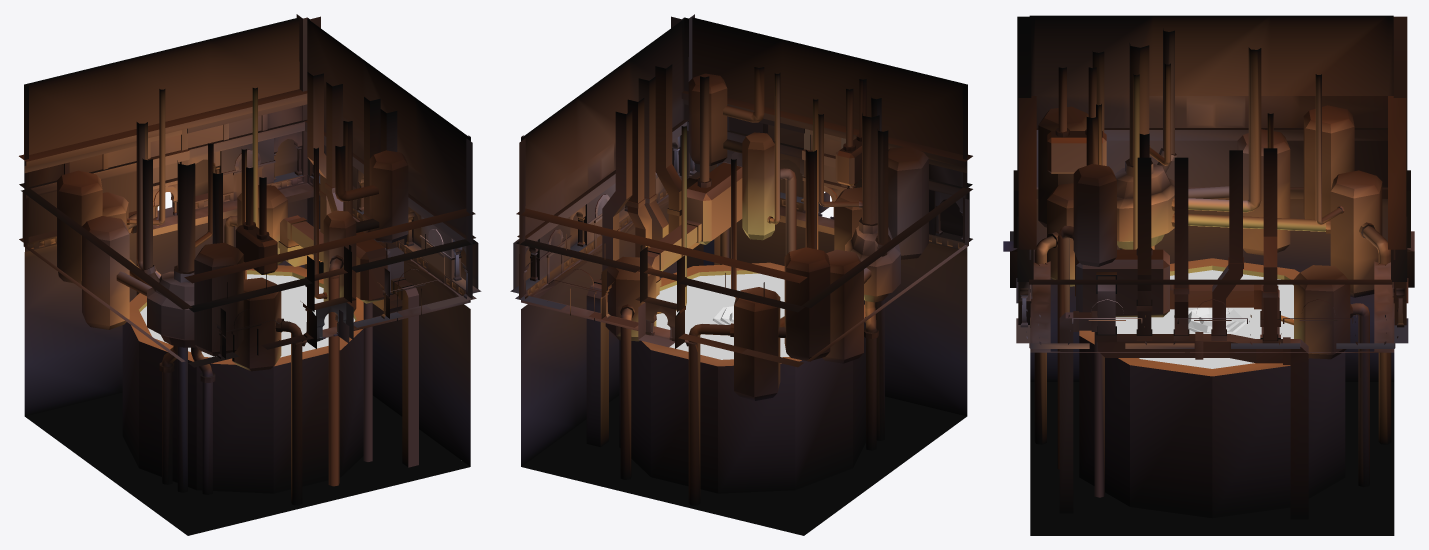
File: 03Lava.gltf
3 renders of one model, left to right at view 1: azimuth 30°, elevation 25°; view 2: azimuth 150°, elevation 25°; view 3: azimuth 270°, elevation 25°, orthographic. The views are drawn at different scales.
Visible parts, largest first — view 1: stg031_o32_Mesh_0074, stg031_o32_Mesh_0062, stg031_o32_Mesh_0008, stg031_o32_Mesh_0001, stg031_o32_Mesh_0000, stg031_o32_Mesh_0052, stg031_o32_Mesh_0056, stg031_o32_Mesh_0025, stg031_o32_Mesh_0033, stg031_o32_Mesh_0076, stg031_o32_Mesh_0077, stg031_o32_Mesh_0044 (+14 smaller); view 2: stg031_o32_Mesh_0074, stg031_o32_Mesh_0062, stg031_o32_Mesh_0001, stg031_o32_Mesh_0008, stg031_o32_Mesh_0000, stg031_o32_Mesh_0056, stg031_o32_Mesh_0052, stg030_surface_32_Mesh_0000, stg031_o32_Mesh_0025, stg031_o32_Mesh_0076, stg031_o32_Mesh_0033, stg031_o32_Mesh_0077 (+11 smaller); view 3: stg031_o32_Mesh_0074, stg031_o32_Mesh_0001, stg031_o32_Mesh_0062, stg031_o32_Mesh_0000, stg031_o32_Mesh_0008, stg031_o32_Mesh_0052, stg031_o32_Mesh_0056, stg031_o32_Mesh_0025, stg031_o32_Mesh_0058, stg030_surface_32_Mesh_0000, stg031_o32_Mesh_0077, stg031_o32_Mesh_0083 (+7 smaller).
Part boxes in pixels (<box>): stg031_o32_Mesh_0074: <box>57,72,418,467</box>; stg031_o32_Mesh_0062: <box>24,17,468,206</box>; stg031_o32_Mesh_0008: <box>24,190,470,535</box>; stg031_o32_Mesh_0001: <box>122,270,363,493</box>; stg031_o32_Mesh_0000: <box>116,87,379,505</box>; stg031_o32_Mesh_0052: <box>19,14,481,367</box>; stg031_o32_Mesh_0056: <box>24,197,470,413</box>; stg031_o32_Mesh_0025: <box>127,183,413,382</box>; stg031_o32_Mesh_0033: <box>29,105,465,348</box>; stg031_o32_Mesh_0076: <box>135,138,478,344</box>; stg031_o32_Mesh_0077: <box>148,130,466,342</box>; stg031_o32_Mesh_0044: <box>26,123,478,316</box>; stg031_o32_Mesh_0074: <box>586,64,928,447</box>; stg031_o32_Mesh_0062: <box>523,17,967,206</box>; stg031_o32_Mesh_0001: <box>619,270,865,493</box>; stg031_o32_Mesh_0008: <box>521,196,967,535</box>; stg031_o32_Mesh_0000: <box>620,67,888,505</box>; stg031_o32_Mesh_0056: <box>521,203,967,413</box>; stg031_o32_Mesh_0052: <box>510,14,972,367</box>; stg030_surface_32_Mesh_0000: <box>656,273,789,359</box>; stg031_o32_Mesh_0025: <box>594,133,890,366</box>; stg031_o32_Mesh_0076: <box>513,150,969,344</box>; stg031_o32_Mesh_0033: <box>526,134,962,348</box>; stg031_o32_Mesh_0077: <box>525,130,841,342</box>; stg031_o32_Mesh_0074: <box>1038,105,1382,519</box>; stg031_o32_Mesh_0001: <box>1079,265,1345,518</box>; stg031_o32_Mesh_0062: <box>1035,15,1388,95</box>; stg031_o32_Mesh_0000: <box>1034,28,1391,497</box>; stg031_o32_Mesh_0008: <box>1030,199,1394,535</box>; stg031_o32_Mesh_0052: <box>1016,15,1408,348</box>; stg031_o32_Mesh_0056: <box>1033,206,1387,323</box>; stg031_o32_Mesh_0025: <box>1047,128,1374,376</box>; stg031_o32_Mesh_0058: <box>1036,140,1387,187</box>; stg030_surface_32_Mesh_0000: <box>1115,270,1293,368</box>; stg031_o32_Mesh_0077: <box>1033,261,1391,351</box>; stg031_o32_Mesh_0083: <box>1030,109,1387,343</box>.
Bounding box in the file's own units: 95.18 × 100 × 102.
